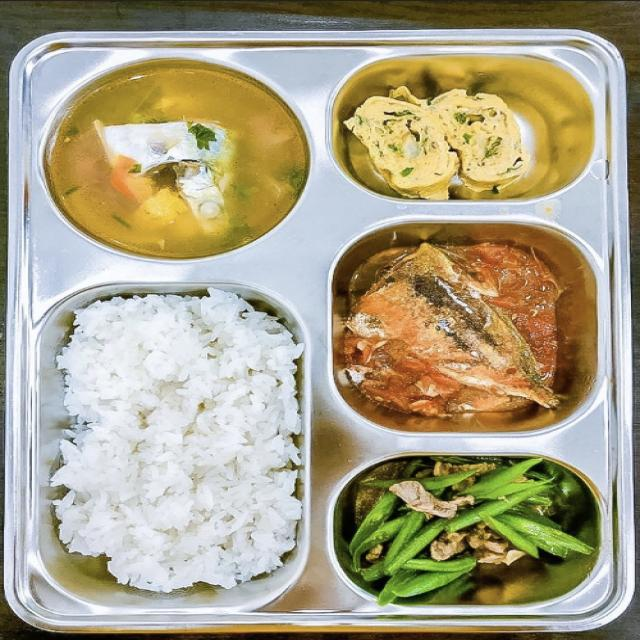bo xao: (348, 458, 593, 604)
com: (50, 290, 302, 592)
trung chien: (343, 86, 529, 199)
